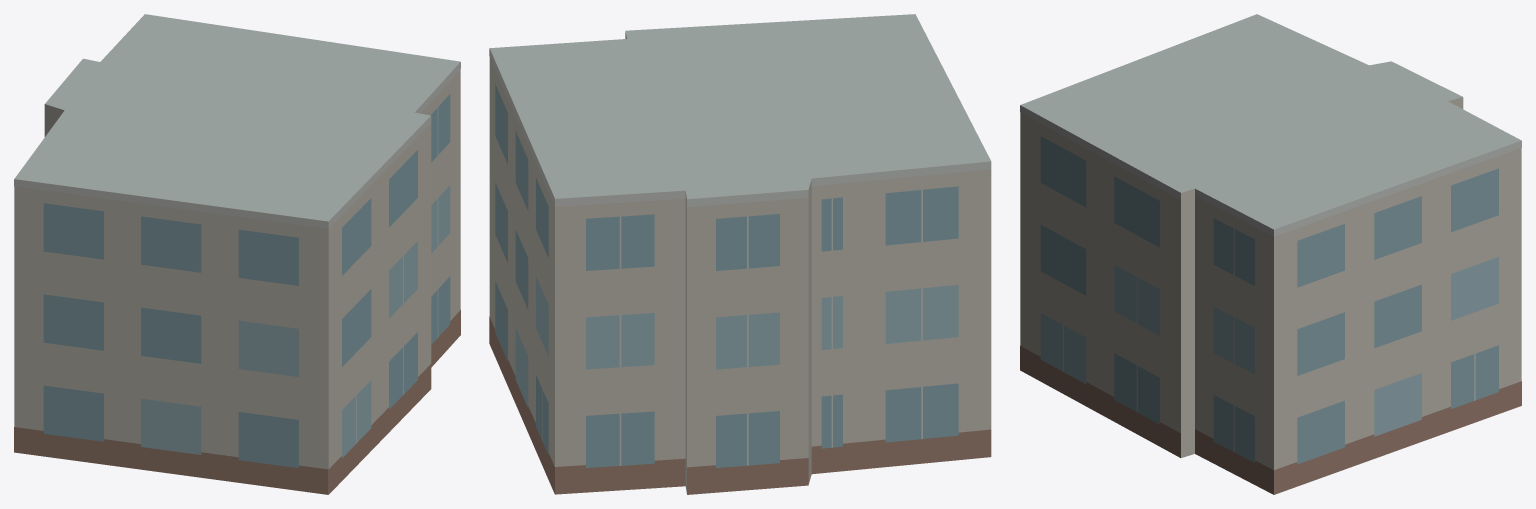
Rendered from survey-upis-32626965.glb.
3 renders of one model, left to right at view 1: azimuth 30°, elevation 25°; view 2: azimuth 150°, elevation 25°; view 3: azimuth 270°, elevation 25°, orthographic. The views are drawn at different scales.
Parts seen in each view (by area): view 1: survey-upis-32626965.tmp; view 2: survey-upis-32626965.tmp; view 3: survey-upis-32626965.tmp.
Boxes of the visible parts, bbox=[...] form: survey-upis-32626965.tmp: bbox=[14, 14, 460, 494]; survey-upis-32626965.tmp: bbox=[489, 14, 991, 494]; survey-upis-32626965.tmp: bbox=[1020, 14, 1521, 494].
Bounding box in the file's own units: 15.96 × 9.15 × 15.69.
